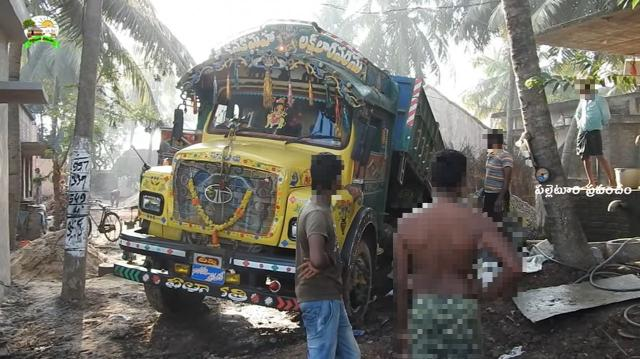truck: (102, 13, 436, 319)
